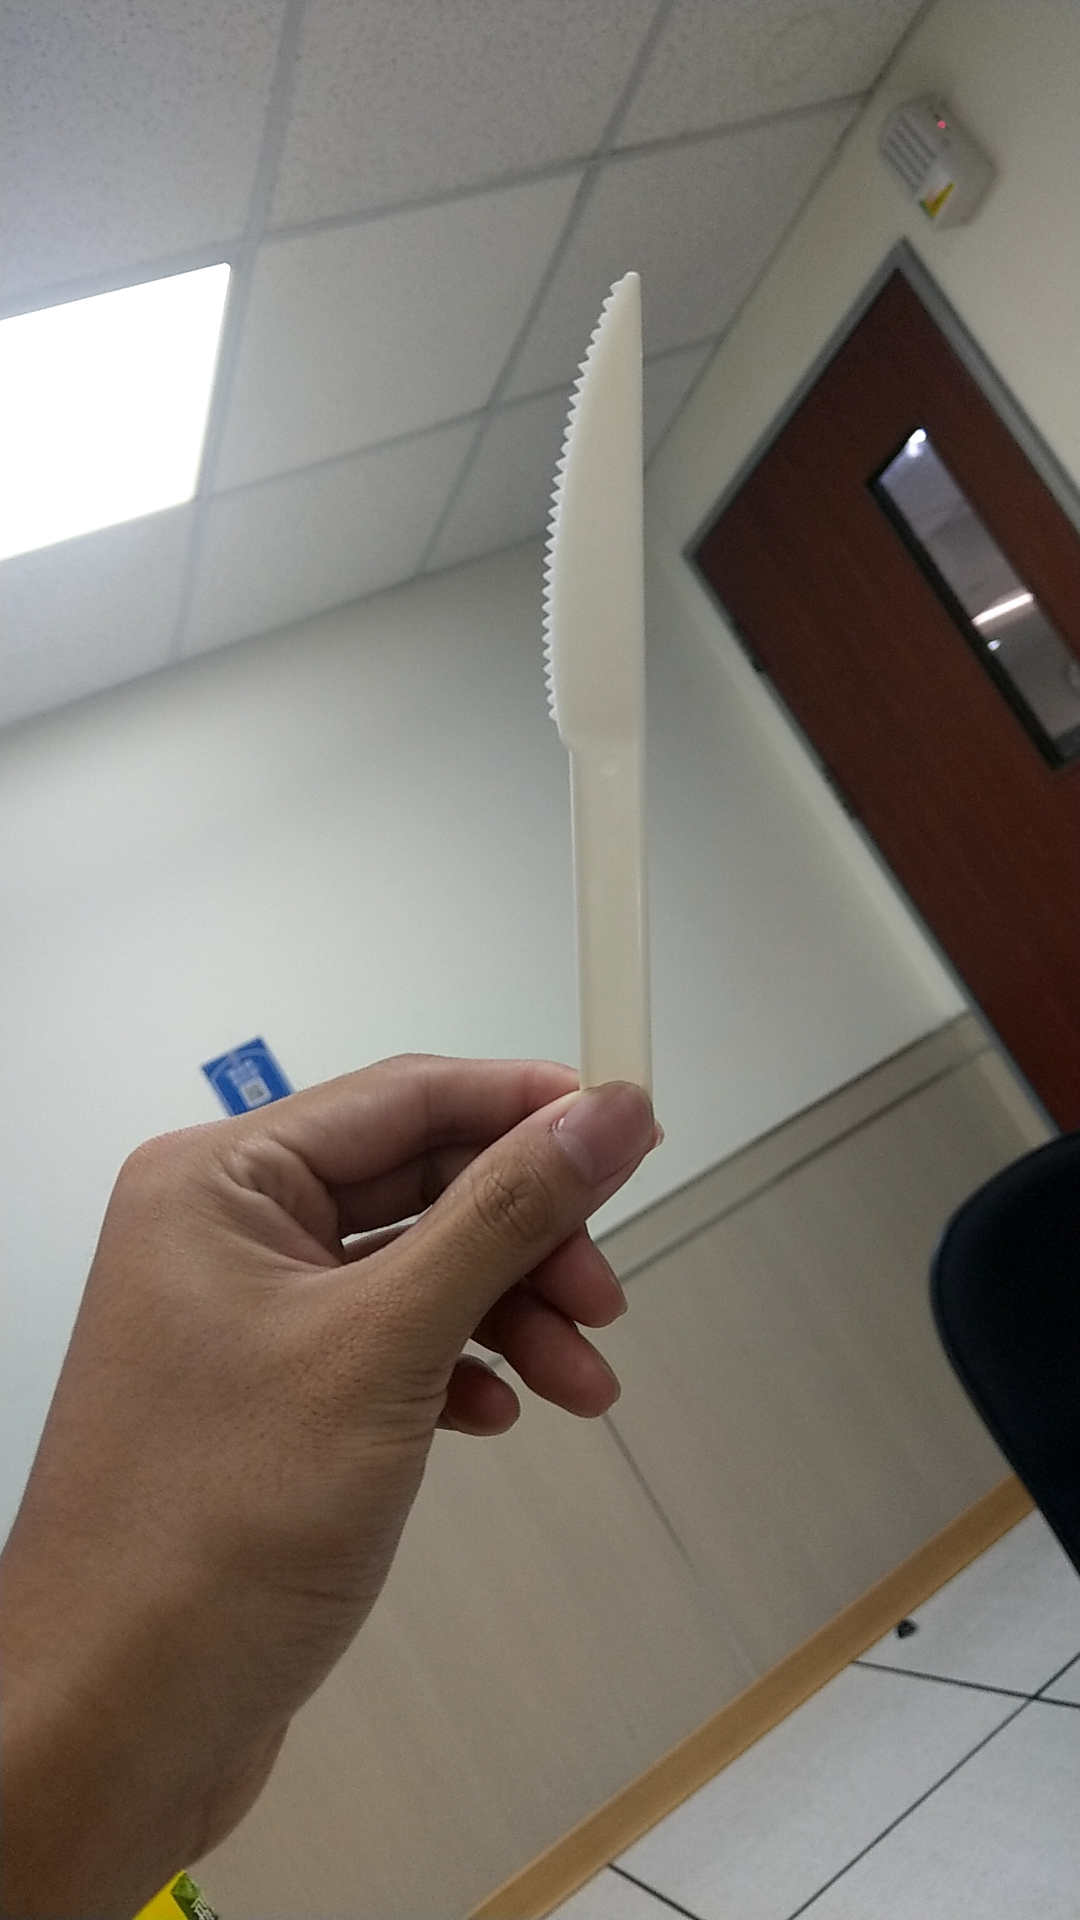knife: (529, 257, 700, 1093)
